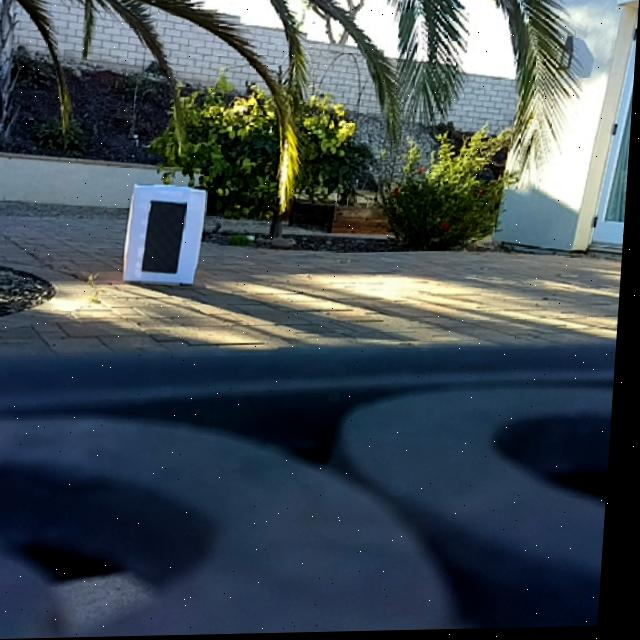led: (146, 202, 189, 274)
